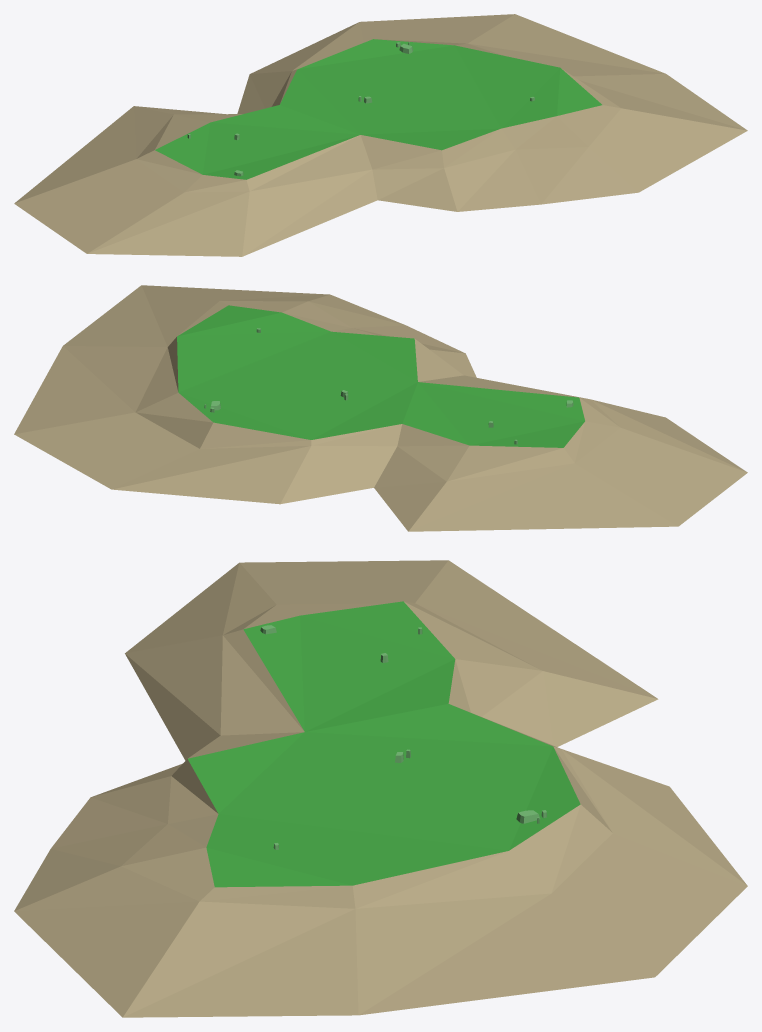
The model's file is Ground_09_B.FBX.
3 renders of one model, top to bottom at view 1: azimuth 30°, elevation 25°; view 2: azimuth 150°, elevation 25°; view 3: azimuth 270°, elevation 25°, orthographic. The views are drawn at different scales.
Visible parts, largest first — view 1: Ground_09_B; view 2: Ground_09_B; view 3: Ground_09_B.
Boxes of the visible parts, bbox=[...] form: Ground_09_B: bbox=[14, 14, 747, 256]; Ground_09_B: bbox=[14, 285, 747, 531]; Ground_09_B: bbox=[14, 560, 747, 1017].
Size of the model in its own units: 11.49 by 0.6867 by 7.79.
